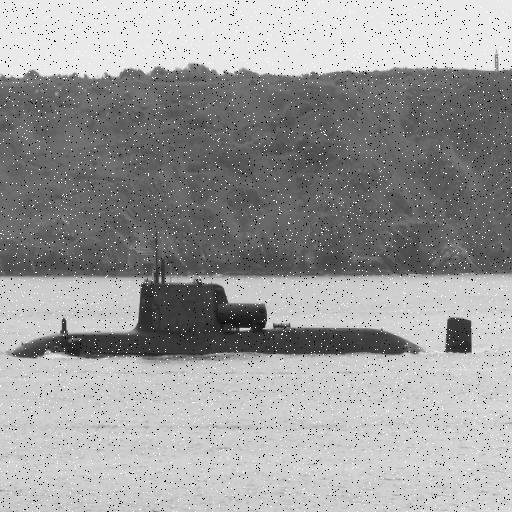submarine: (13, 247, 484, 360)
